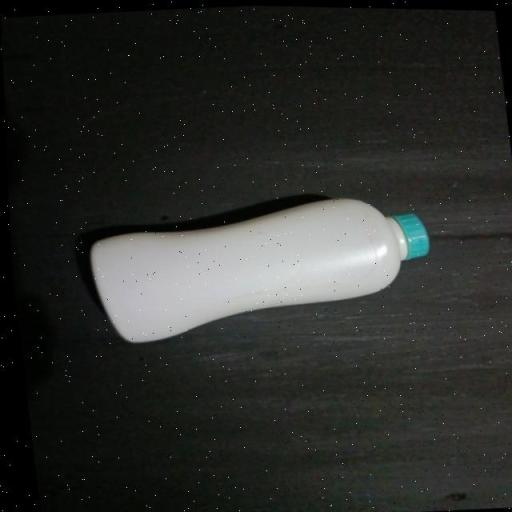plastic: (50, 167, 489, 382)
